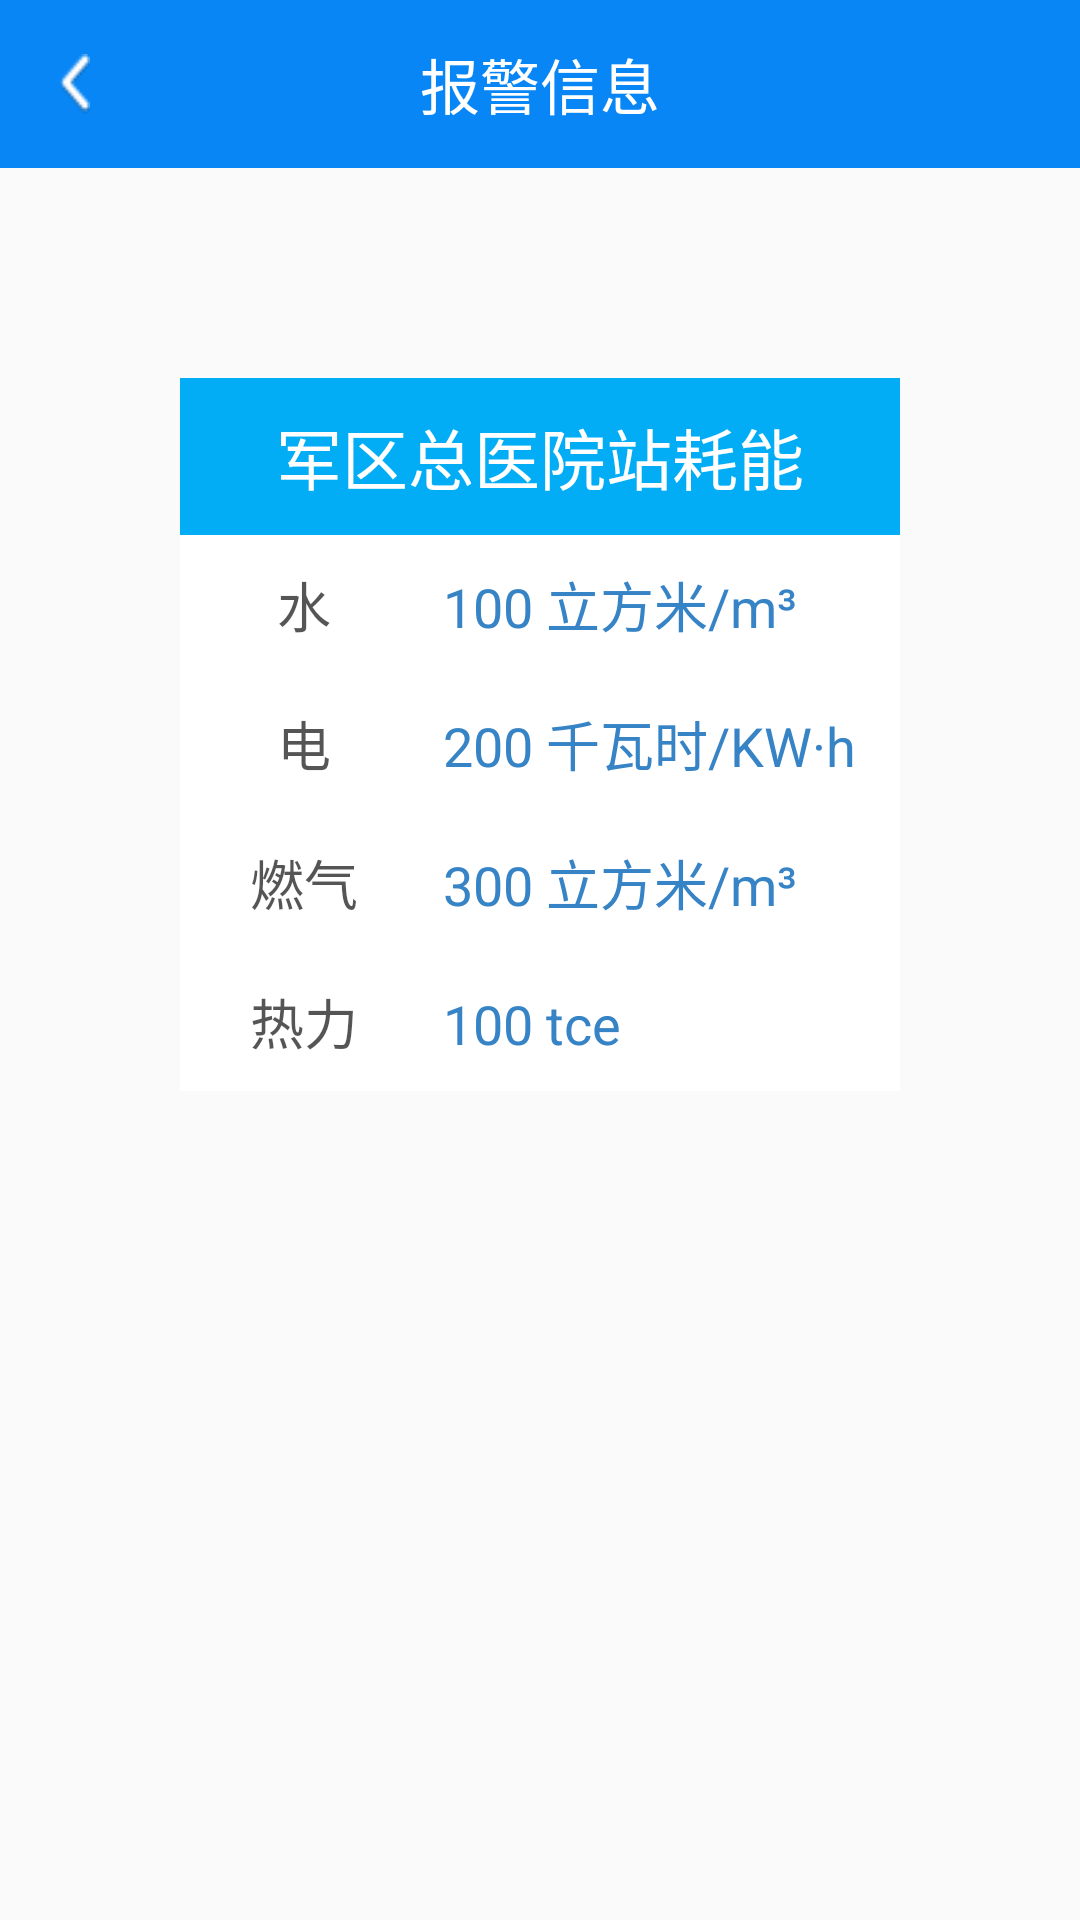

Named icons in this screenshot (1080×1920) and their bounding boxes, (x1, y1, x2, y2):
back: (60, 54, 90, 112)
